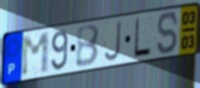9: (50, 29, 69, 72)
B: (75, 23, 101, 70)
J: (103, 19, 123, 64)
L: (132, 17, 153, 59)
M: (20, 31, 50, 79)
S: (156, 10, 179, 56)
